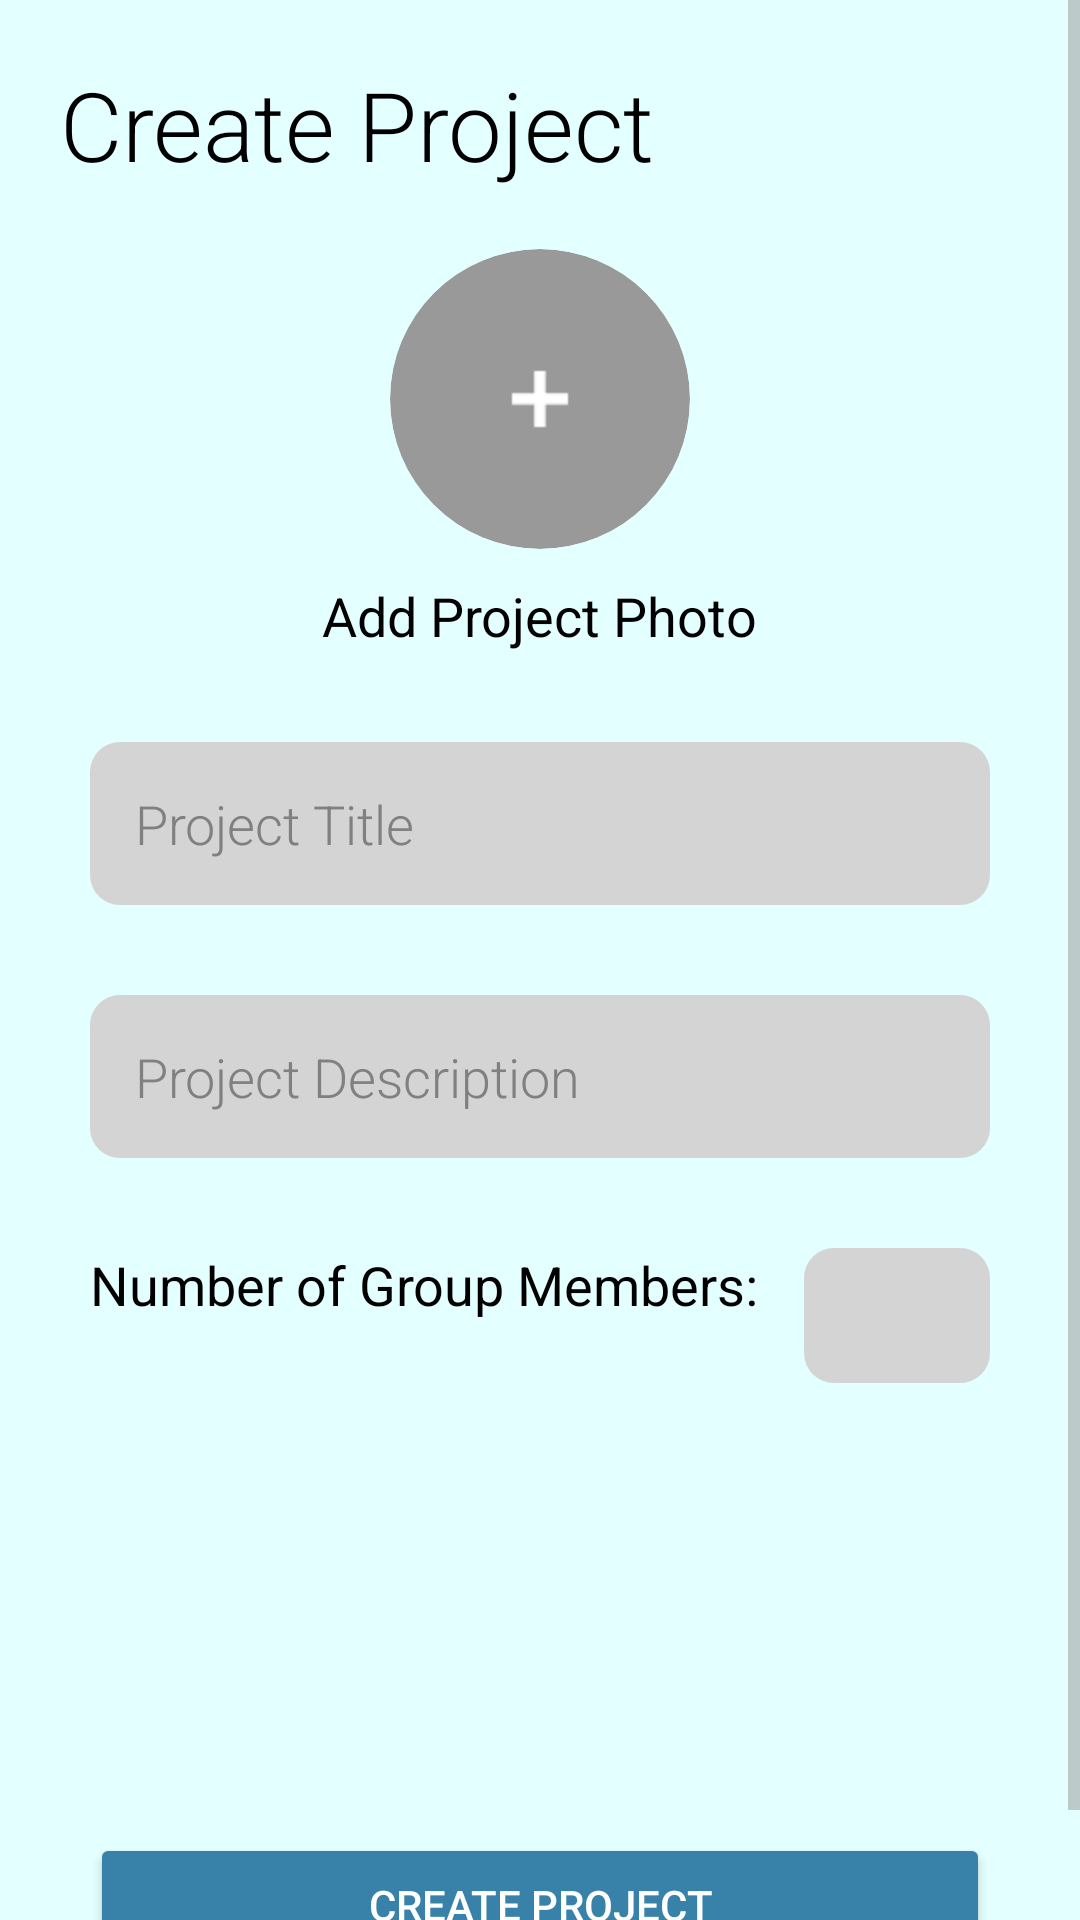

Point at icon controls on the screen. Image size 1080w x 1920h, points as [x,y].
plus sign: [540,399]
